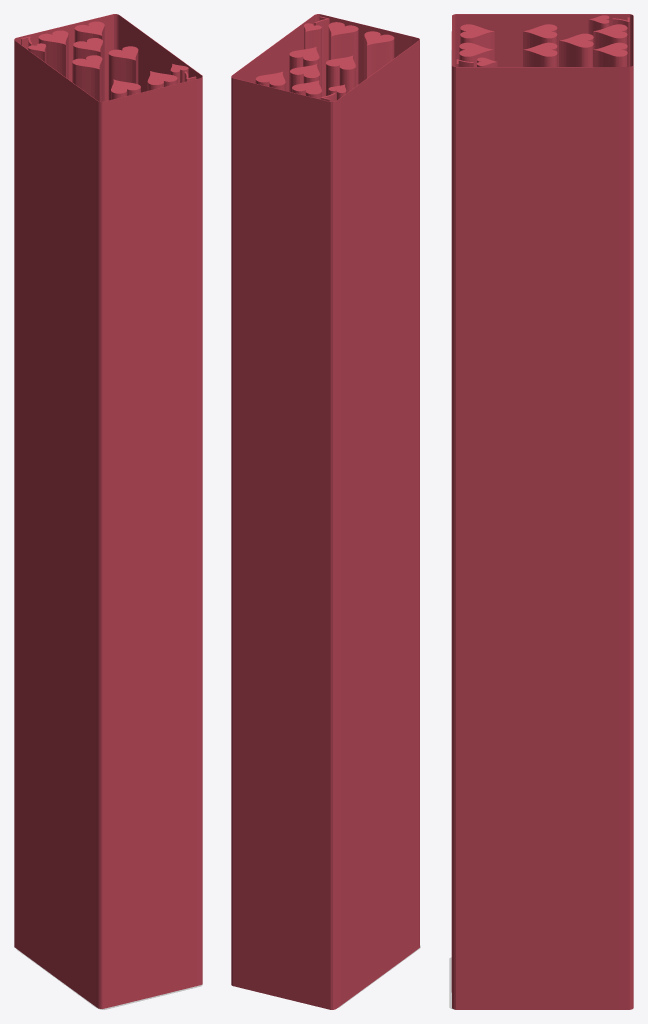
The model's file is 7_hearts.glb.
3 renders of one model, left to right at view 1: azimuth 30°, elevation 25°; view 2: azimuth 150°, elevation 25°; view 3: azimuth 270°, elevation 25°, orthographic. The views are drawn at different scales.
Visible parts, largest first — view 1: Mesh_Mesh_head_geo.001_lambert2SG.001; view 2: Mesh_Mesh_head_geo.001_lambert2SG.001; view 3: Mesh_Mesh_head_geo.001_lambert2SG.001.
Boxes of the visible parts, x1,y1,x2,y2 form: Mesh_Mesh_head_geo.001_lambert2SG.001: (14, 14, 202, 1009); Mesh_Mesh_head_geo.001_lambert2SG.001: (231, 14, 420, 1009); Mesh_Mesh_head_geo.001_lambert2SG.001: (449, 14, 633, 1009).
Bounding box in the file's own units: 1.22 × 10 × 1.78.
